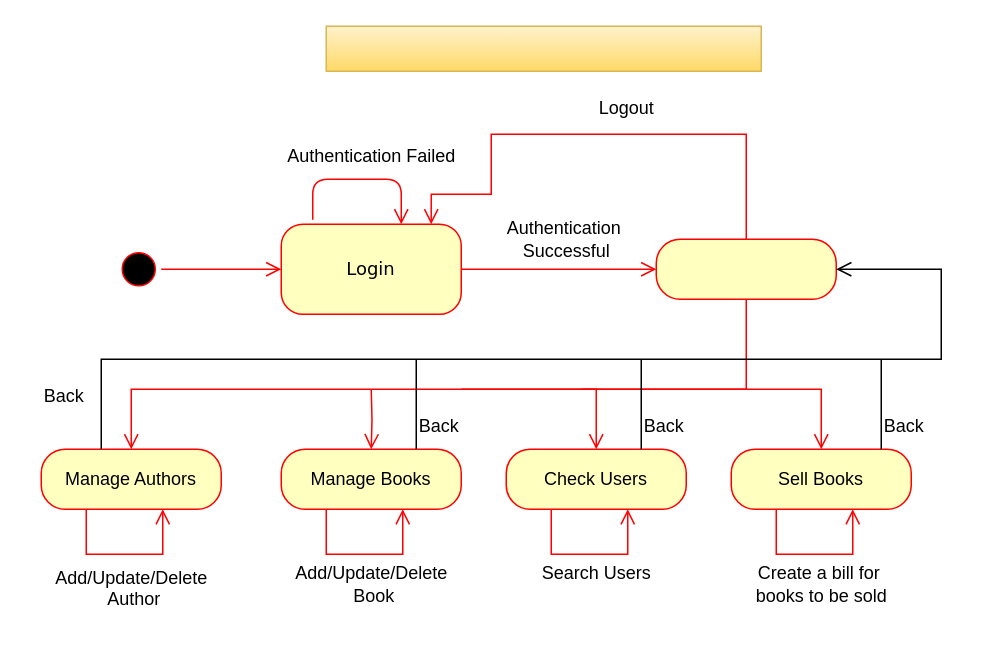
This 983x671 diagram has some shape labels left out. The centre of each missing label's shape, as x and y in pixels:
Managers State Machine With Default Permissions: the point at 543,48
Manger Dashboard: the point at 745,268
